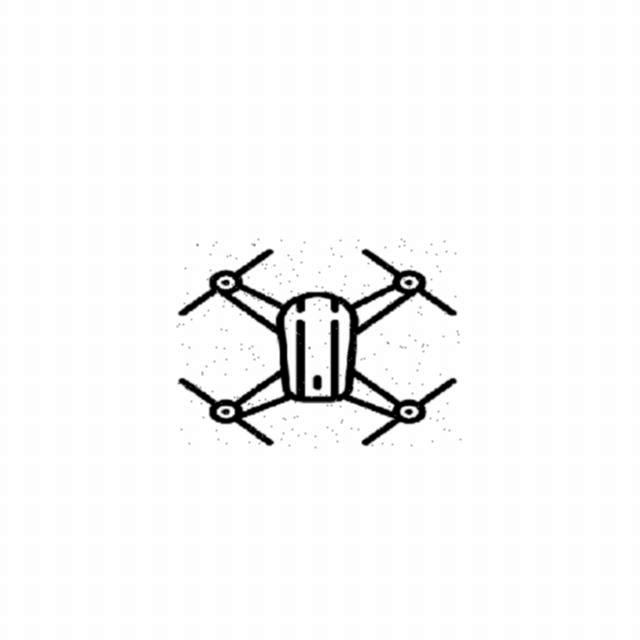drone: (179, 239, 463, 449)
